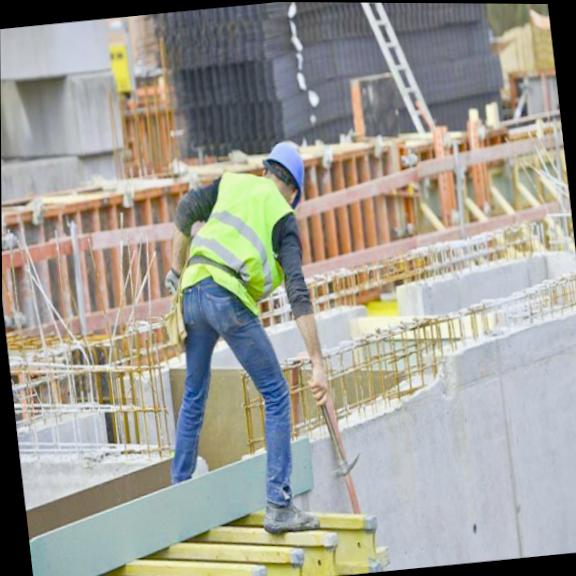safety_vest: (163, 172, 305, 339)
